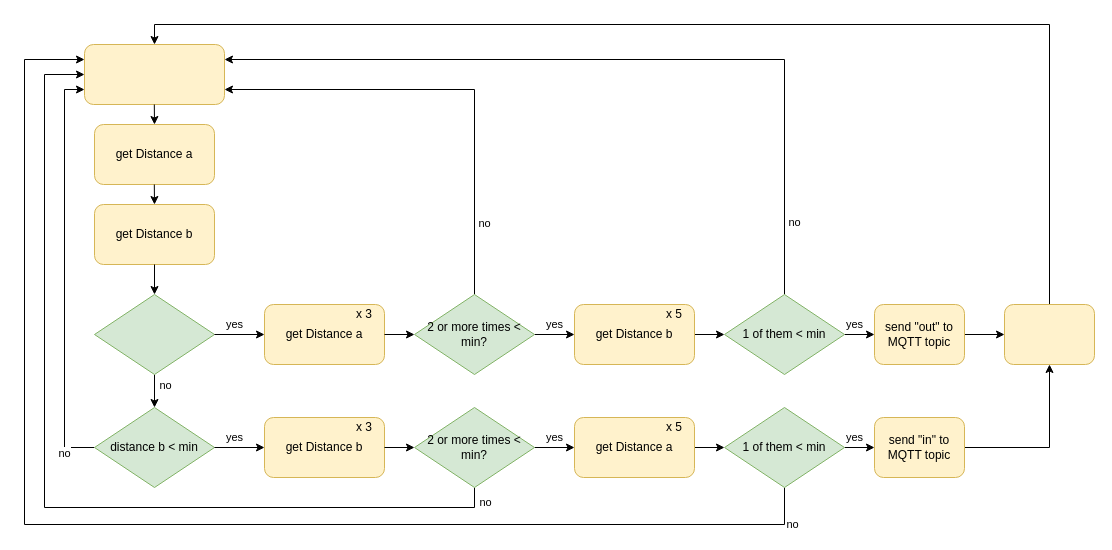
Image size: 1112x550. Some labels were removed from this diagram. Each missing label, with the centre of its shape:
CheckSnapClientStatus: (x=154, y=74)
distance a < min: (x=154, y=334)
Polling: (x=1049, y=334)
